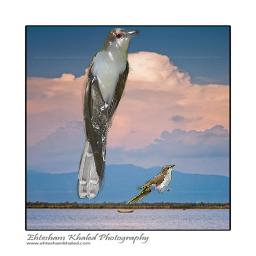Cuckoo: (76, 26, 141, 199), (125, 164, 175, 204)
